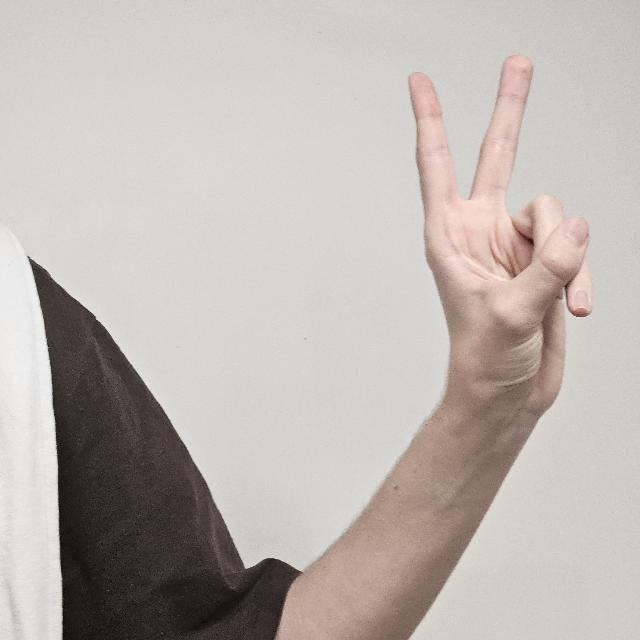Triangulo: (406, 52, 626, 462)
